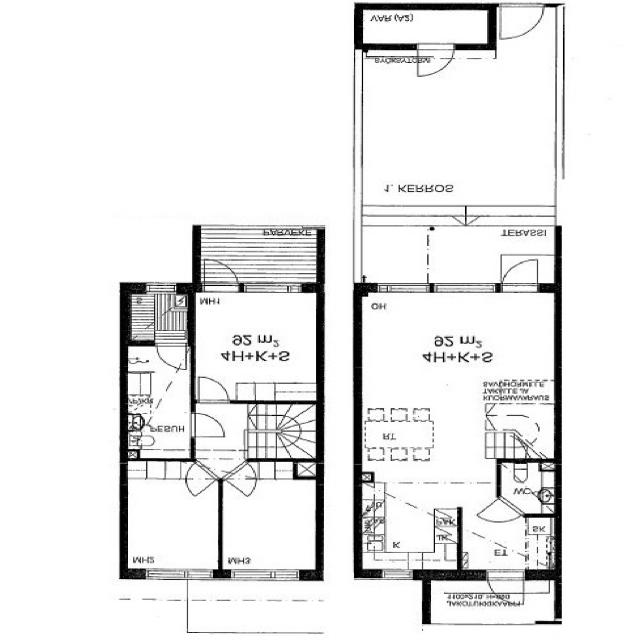door: (480, 496, 526, 532), (174, 461, 220, 496), (501, 3, 544, 39), (223, 461, 268, 495), (486, 569, 524, 609), (416, 43, 455, 78), (204, 256, 240, 293), (503, 256, 538, 292), (191, 413, 229, 437), (198, 377, 229, 404), (157, 342, 187, 369)
